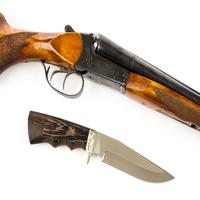knife: (23, 103, 181, 192)
